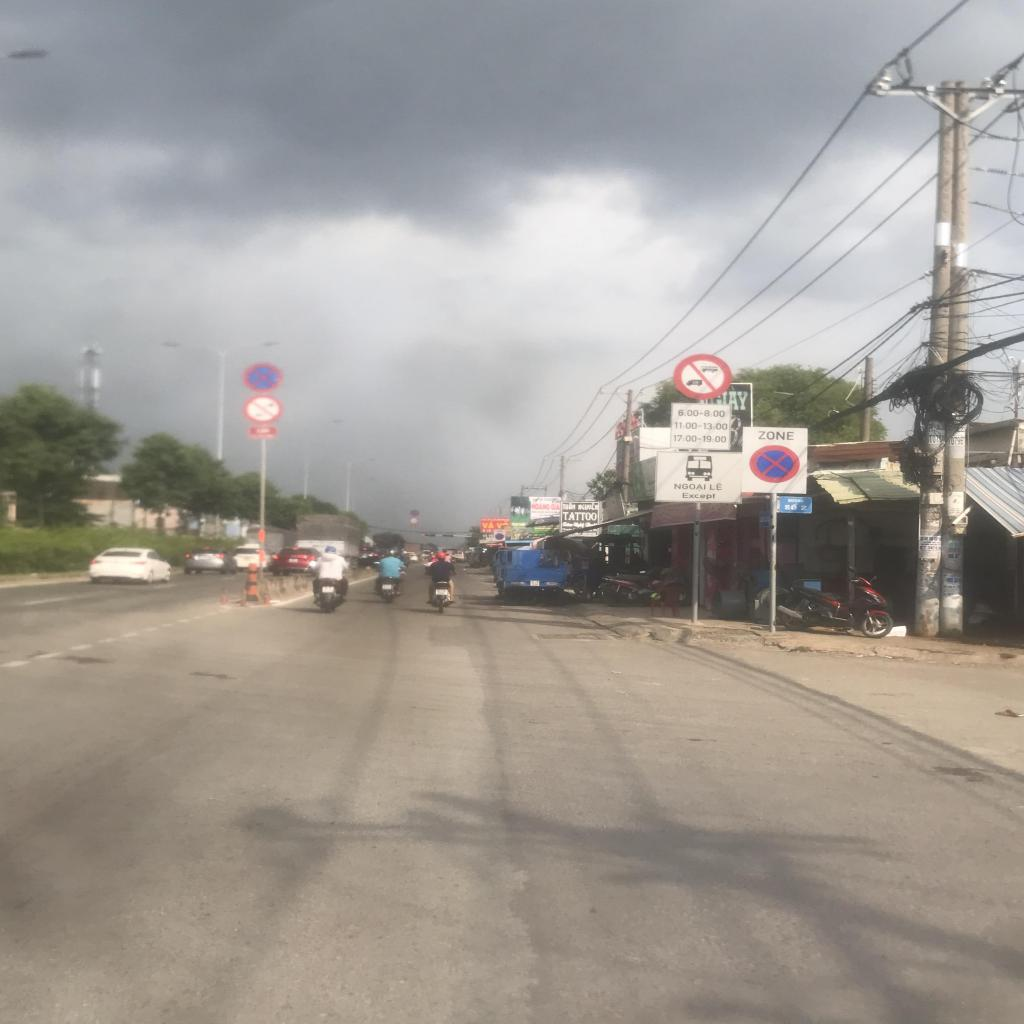cam_dung_xe_va_do_xe: (749, 445, 800, 483), (244, 362, 283, 392), (495, 533, 504, 540), (410, 510, 420, 516)
cam_o_to_tai_va_xe_khach: (673, 354, 732, 400)
cam_xe_2_banh_va_xe_3_banh_co_dong_co: (243, 394, 284, 424), (410, 518, 418, 524)
khac: (656, 452, 742, 503), (671, 404, 731, 450)
